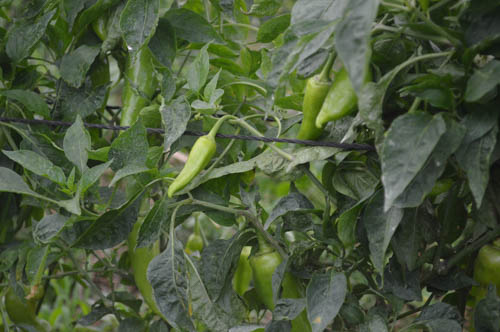ChiliPepper: (249, 256, 307, 324), (126, 226, 171, 313), (314, 68, 374, 132), (118, 49, 153, 132), (166, 139, 216, 195), (291, 78, 330, 146)
